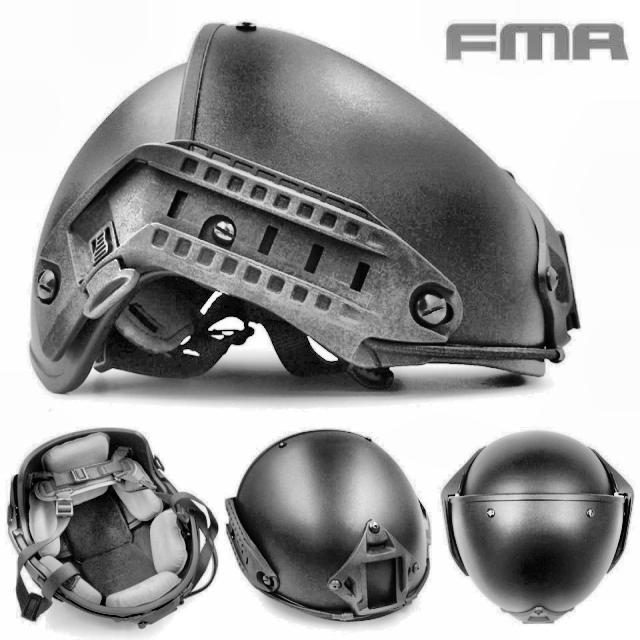Helmet: (26, 13, 594, 416), (222, 435, 432, 629), (447, 431, 633, 623)
